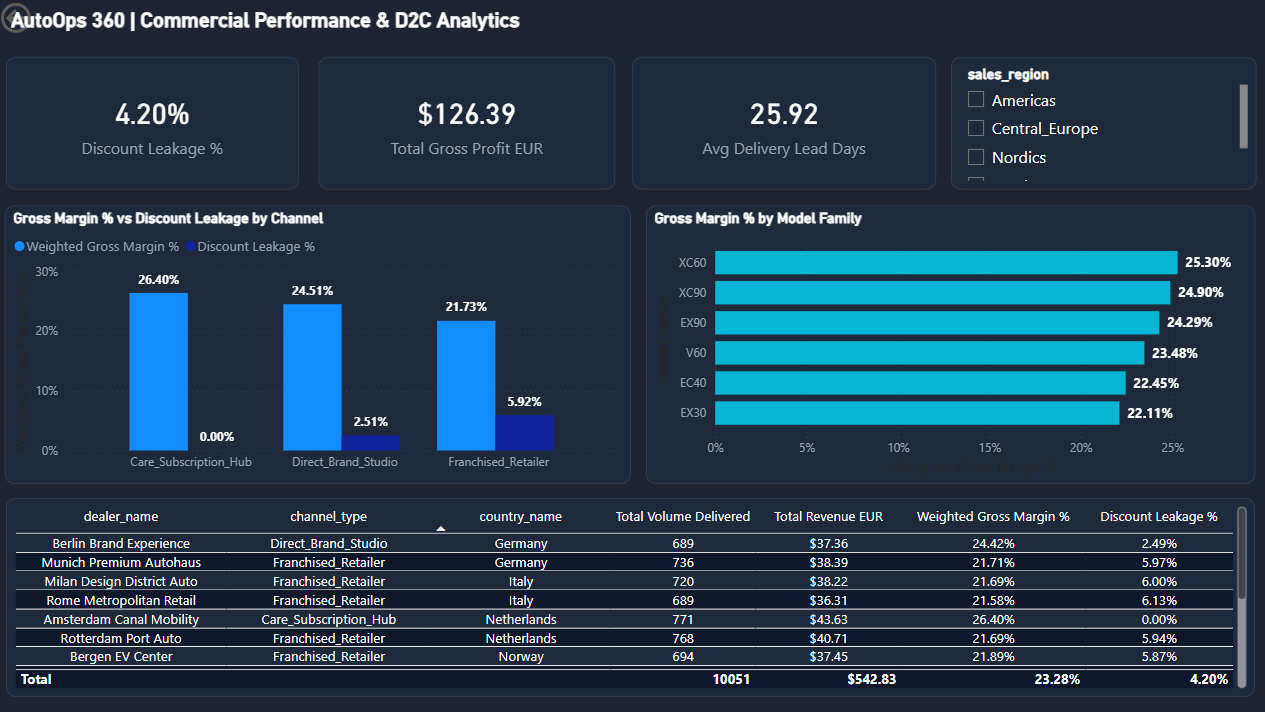

What the dashboard file says about the page in this screenshot:
{"tool":"powerbi","page":{"name":"Page 2","canvas":[1280,720],"ordinal":1},"visuals":[{"type":"card","fields":{"Values":["dim_dates.Discount Leakage %"]},"box":[9.9,59.2,294.4,133.8],"z":0},{"type":"card","fields":{"Values":["dim_dates.Total Gross Profit EUR"]},"box":[323.9,59.2,298.6,133.8],"z":1000},{"type":"card","fields":{"Values":["dim_dates.Avg Delivery Lead Days"]},"box":[639.4,59.2,305.6,133.8],"z":2000},{"type":"clusteredColumnChart","title":"Gross Margin % vs Discount Leakage by Channel","fields":{"Category":["dim_dealers.channel_type"],"Y":["dim_dates.Weighted Gross Margin %","dim_dates.Discount Leakage %"]},"box":[8.5,208.5,629.6,280.3],"z":3000},{"type":"clusteredBarChart","title":"Gross Margin % by Model Family","fields":{"Category":["dim_vehicles.model_family"],"Y":["dim_dates.Weighted Gross Margin %"]},"box":[653.5,208.5,612.7,280.3],"z":4000},{"type":"tableEx","fields":{"Values":["dim_dealers.dealer_name","dim_dealers.channel_type","dim_geography.country_name","dim_dates.Total Volume Delivered","dim_dates.Total Revenue EUR","dim_dates.Weighted Gross Margin %","dim_dates.Discount Leakage %"]},"box":[9.9,502.8,1256.3,200],"z":5000},{"type":"actionButton","box":[0,0,100,40],"z":6000},{"type":"textbox","title":"AutoOps 360 | Commercial Performance & D2C Analytics","box":[9.9,9.9,666.2,31],"z":7000},{"type":"slicer","fields":{"Values":["dim_geography.sales_region"]},"box":[960.6,59.2,307,133.8],"z":8000}]}

Visuals, with their boxes in screenshot pixels (x1, y1, x2, y2), scaled from the page's 1280x720 canvas onto the 1265x712 screenshot:
card - dim_dates.Discount Leakage %: <region>10, 59, 301, 191</region>
card - dim_dates.Total Gross Profit EUR: <region>320, 59, 615, 191</region>
card - dim_dates.Avg Delivery Lead Days: <region>632, 59, 934, 191</region>
"Gross Margin % vs Discount Leakage by Channel" clusteredColumnChart: <region>8, 206, 631, 483</region>
"Gross Margin % by Model Family" clusteredBarChart: <region>646, 206, 1251, 483</region>
tableEx - dim_dealers.dealer_name x dim_dealers.channel_type: <region>10, 497, 1251, 695</region>
actionButton: <region>0, 0, 99, 40</region>
"AutoOps 360 | Commercial Performance & D2C Analytics" textbox: <region>10, 10, 668, 40</region>
slicer - dim_geography.sales_region: <region>949, 59, 1253, 191</region>
